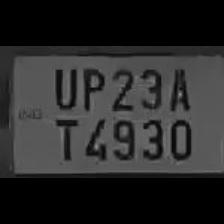0: (164, 113, 194, 159)
2: (104, 62, 136, 112)
3: (136, 64, 164, 110), (138, 115, 164, 161)
4: (79, 114, 107, 162)
9: (108, 114, 136, 160)
A: (164, 64, 192, 114)
P: (76, 62, 104, 112)
T: (48, 116, 78, 162)
U: (48, 62, 78, 112)
